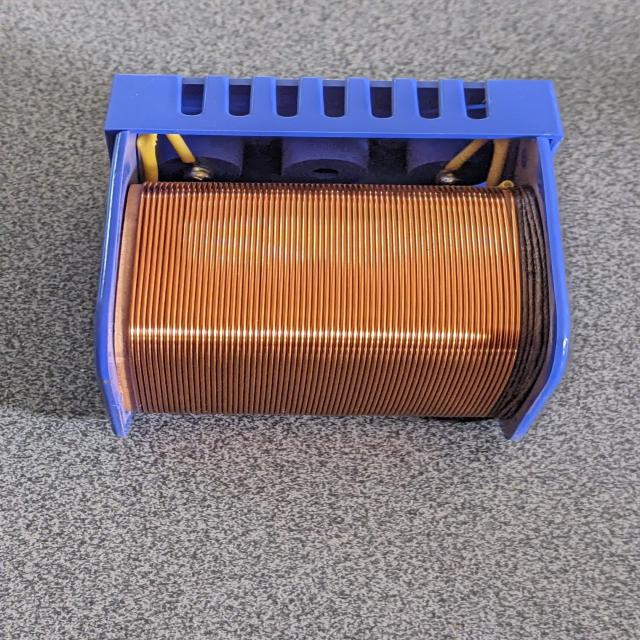Solenoid: (65, 53, 598, 440)
